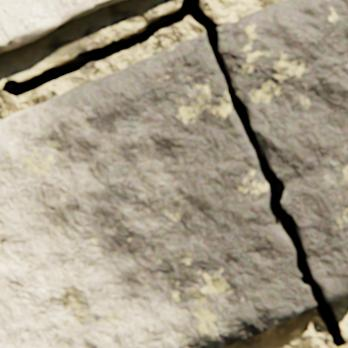brick: (0, 0, 124, 53)
broken_brick: (0, 34, 315, 347), (217, 0, 347, 301)
crack: (1, 0, 346, 347)
